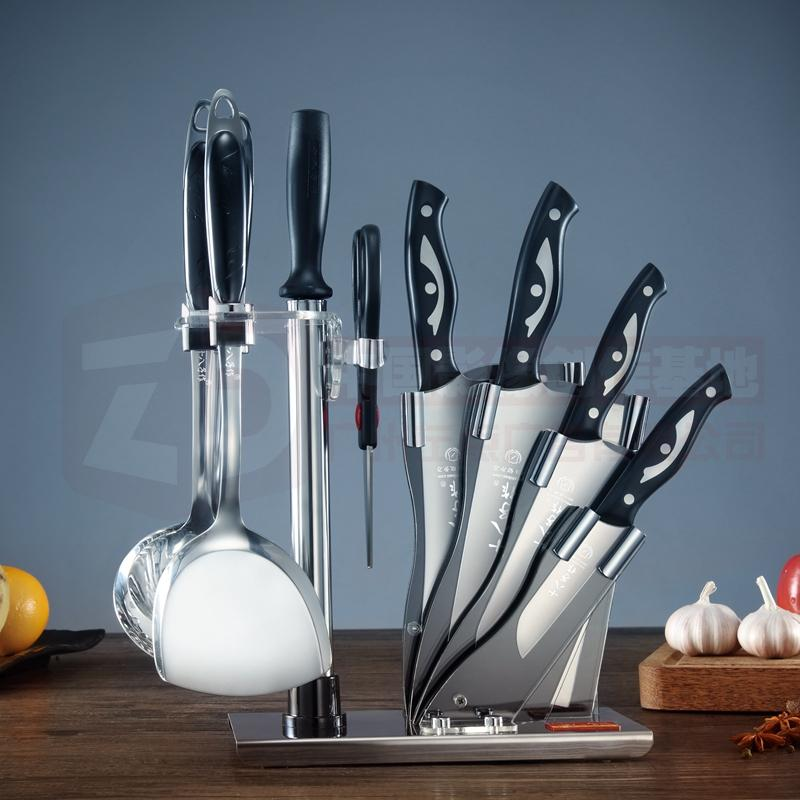knife: (343, 106, 736, 739)
